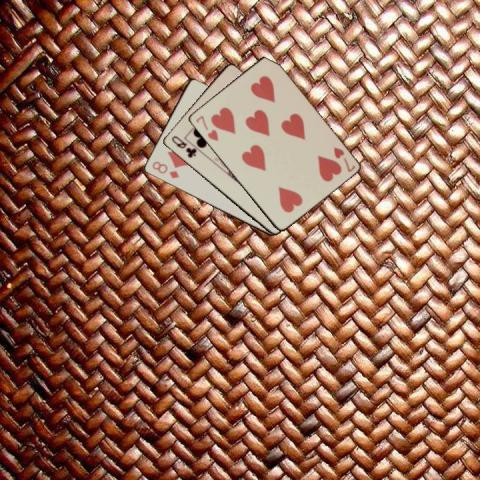7h: (193, 112, 219, 142), (330, 144, 356, 173)
8d: (149, 158, 180, 180)
Qc: (168, 133, 198, 159)
